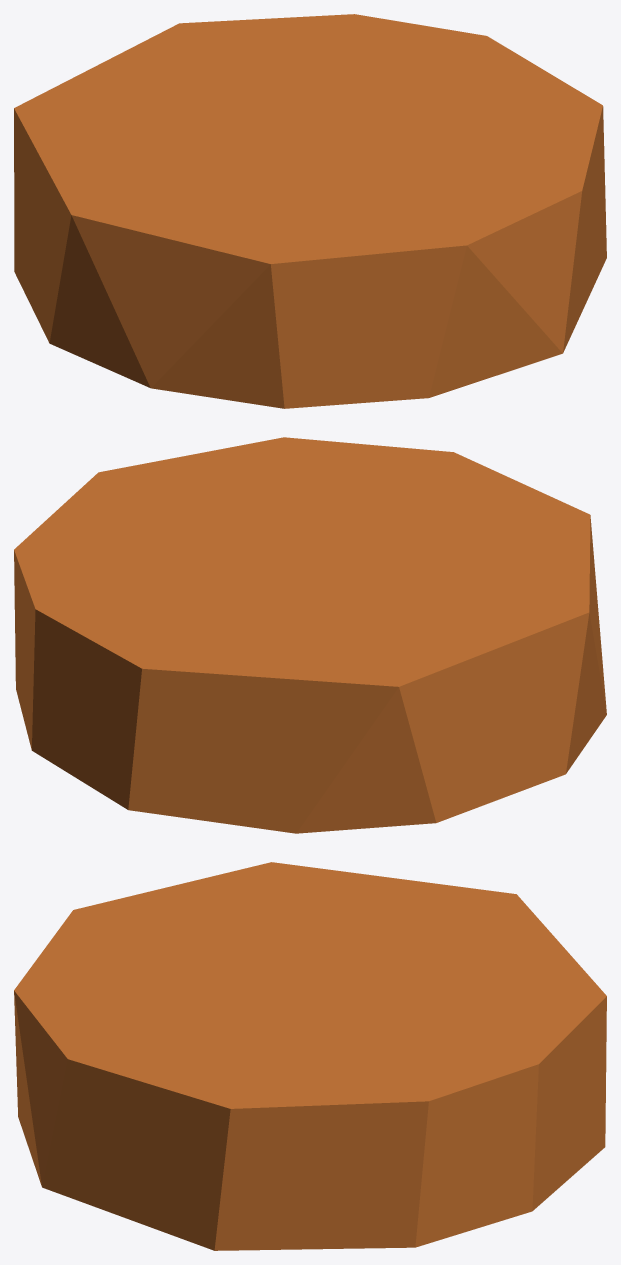
Rendered from BottomLoaf.obj.
The picture shows the model from 3 angles, top to bottom: view 1: azimuth 30°, elevation 25°; view 2: azimuth 150°, elevation 25°; view 3: azimuth 270°, elevation 25°; orthographic projection.
Parts seen in each view (by area): view 1: Цилиндр; view 2: Цилиндр; view 3: Цилиндр.
Boxes of the visible parts, bbox=[...] form: Цилиндр: bbox=[14, 14, 606, 408]; Цилиндр: bbox=[14, 437, 606, 833]; Цилиндр: bbox=[14, 862, 606, 1250].
Bounding box in the file's own units: 0.6006 × 0.1633 × 0.6097.
